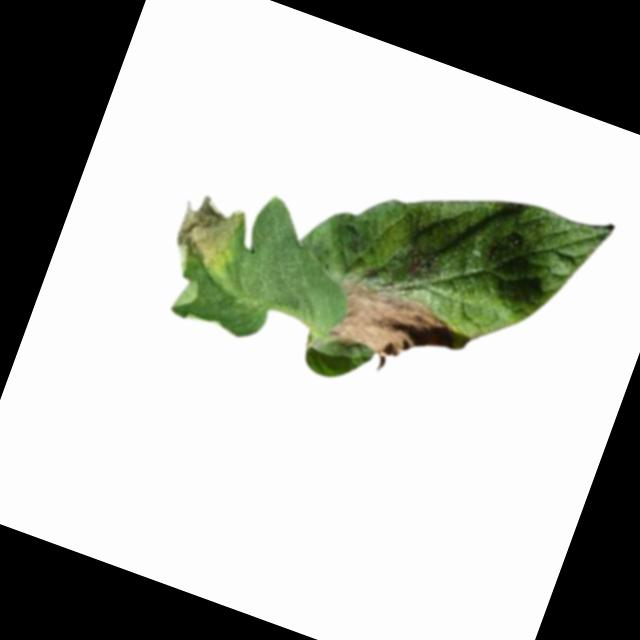Late_blight: (321, 274, 464, 379), (168, 188, 249, 277)
